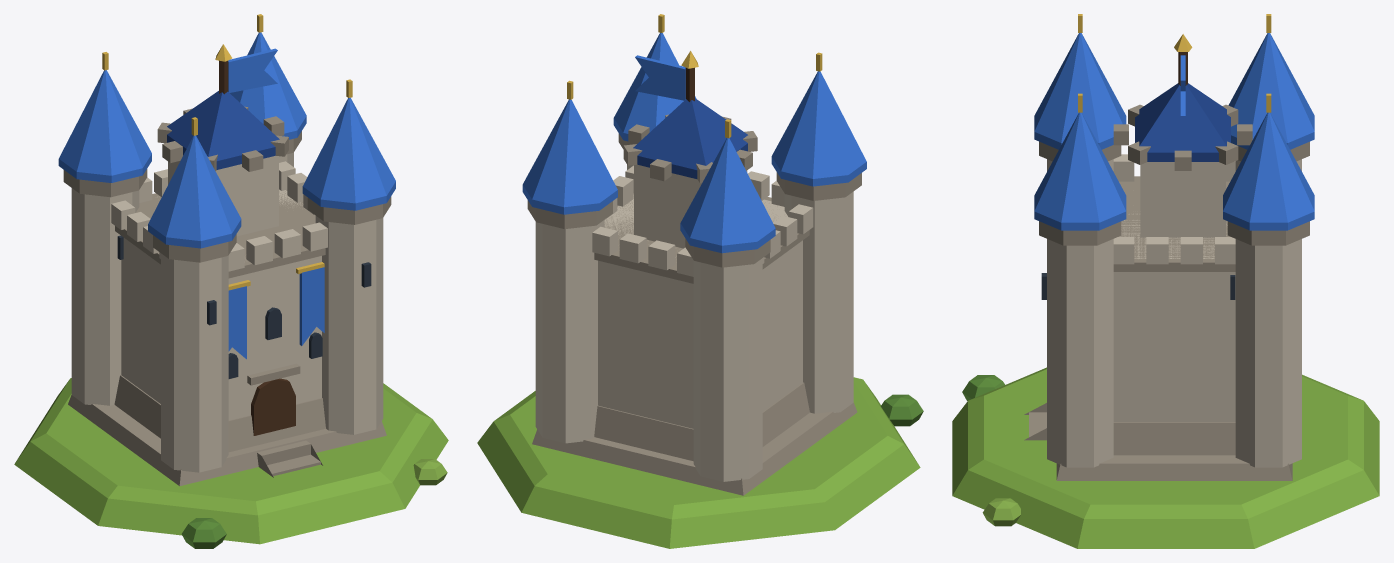
File: city_center_2.glb
3 views of the same model, side by side, from view 1: azimuth 30°, elevation 25°; view 2: azimuth 150°, elevation 25°; view 3: azimuth 270°, elevation 25° (orthographic). The views are drawn at different scales.
Parts seen in each view (by area): view 1: city_center_2; view 2: city_center_2; view 3: city_center_2.
Boxes of the visible parts, x1,y1,x2,y2 form: city_center_2: [14, 14, 448, 548]; city_center_2: [477, 14, 923, 548]; city_center_2: [952, 14, 1379, 548].
Bounding box in the file's own units: 0.4989 × 0.5472 × 0.4989.
